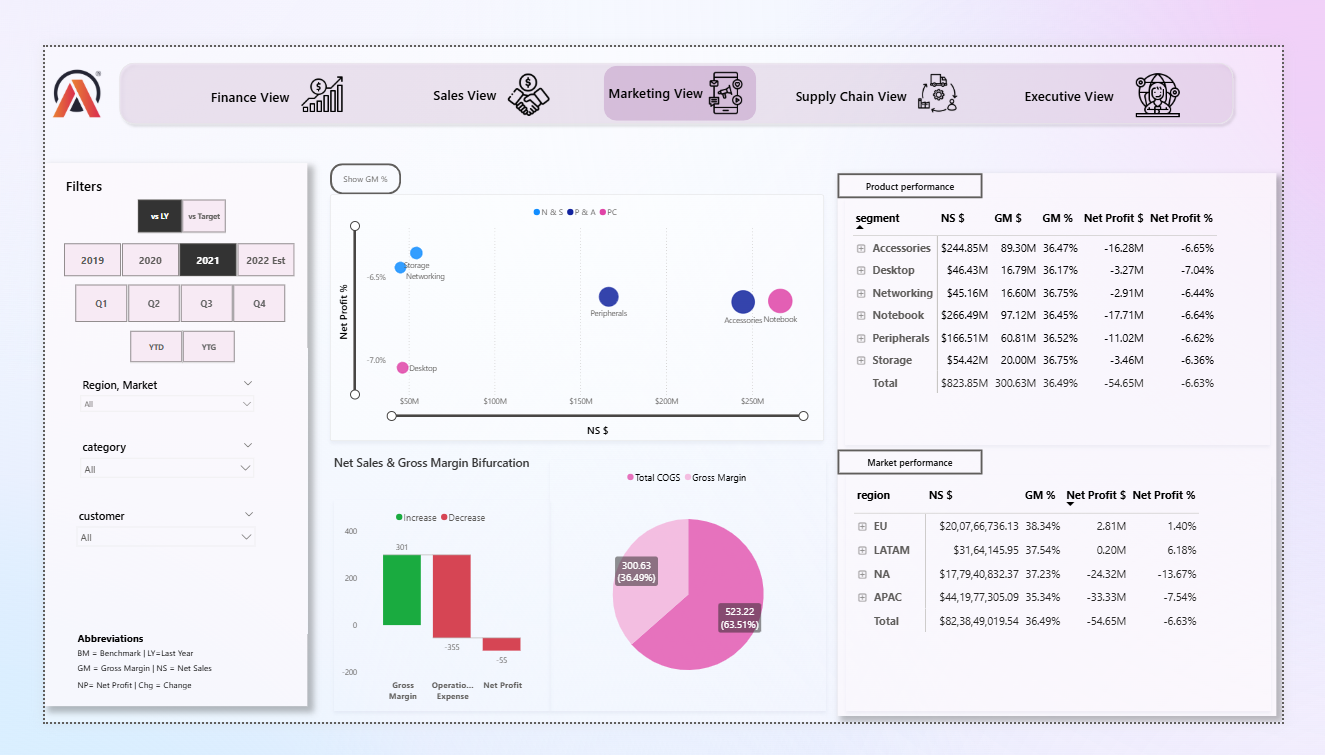

This screenshot's page, from the dashboard's own definition file:
{"tool":"powerbi","page":{"name":"Marketing View","canvas":[1980,1080],"ordinal":3},"visuals":[{"type":"shape","box":[894,30,244,88],"z":0},{"type":"scatterChart","fields":{"Category":["dim_product.segment","dim_product.category","dim_product.product"],"X":["Key Measures.NS $"],"Size":["Key Measures.NS $"],"Series":["dim_product.division"],"Y":["Key Measures.GM %"]},"box":[454,235.6,770,392.4],"z":0,"group":"g3"},{"type":"group","id":"g1","title":"Group 3","box":[52.5,956,265.7,74.3],"z":0,"group":"g2"},{"type":"shape","box":[52.8,956,264,24],"z":0,"group":"g1"},{"type":"actionButton","box":[481.3,186,113.8,49.9],"z":1000,"group":"g4"},{"type":"shape","box":[1268,202,702,868],"z":1000},{"type":"shape","box":[52.5,927.5,237.5,35],"z":1000,"group":"g2"},{"type":"shape","box":[52.5,982.3,264.3,22.9],"z":1000,"group":"g1"},{"type":"shape","box":[52.5,1007.4,265.7,22.9],"z":2000,"group":"g1"},{"type":"pieChart","fields":{"Y":["Key Measures.P & L values"],"Category":["P & L Rows.Description"]},"box":[808,660,442,402],"z":3000},{"type":"waterfallChart","fields":{"Category":["P & L Rows.Description"],"Y":["Key Measures.P & L values"]},"box":[462,724,346,338],"z":4000},{"type":"image","box":[12,30,80,88],"z":5000},{"type":"shape","box":[110,16,1800,116],"z":6000},{"type":"image","box":[740,36,68,80],"z":7000},{"type":"image","box":[1053.9,35.6,70,75],"z":8000},{"type":"image","box":[1396.1,33.3,65,80],"z":9000},{"type":"image","box":[1743.9,31.2,72.5,90],"z":10000},{"type":"textbox","box":[260.8,60.3,160,45],"z":11000},{"type":"textbox","box":[615.3,56.1,147.5,50],"z":12000},{"type":"textbox","box":[895.1,53.1,202.5,47.5],"z":13000},{"type":"textbox","box":[1561.4,58.7,182.5,40],"z":14000},{"type":"textbox","box":[1196.1,58.3,210,40],"z":15000},{"type":"image","box":[408.3,37.8,70,75],"z":16000},{"type":"shape","box":[0,186.2,420,868.8],"z":17000},{"type":"shape","box":[462,636,330,56],"z":18000},{"type":"slicer","fields":{"Values":["fiscal_year.fy_desc"]},"box":[10,312.5,407.5,56.2],"z":19000},{"type":"slicer","fields":{"Values":["dim_date.quarters"]},"box":[28.8,378.8,375,63.8],"z":20000},{"type":"slicer","fields":{"Values":["dim_date.ytd_ytg"]},"box":[115,451.2,206.2,53.8],"z":21000},{"type":"slicer","fields":{"Values":["dim_market.region","dim_customer.market"]},"box":[52.5,527.5,287.5,80],"z":22000},{"type":"slicer","fields":{"Values":["dim_product.category"]},"box":[52.5,627.5,287.5,65],"z":23000},{"type":"slicer","fields":{"Values":["Set BM.Benchmarks"]},"box":[128,242,180,56],"z":24000},{"type":"slicer","fields":{"Values":["dim_customer.customer"]},"box":[45,737.5,295,77.5],"z":25000},{"type":"group","id":"g2","title":"Group 5","box":[52.5,927.5,265.7,102.8],"z":26000},{"type":"group","id":"g3","title":"GM","box":[454,186,770,442],"z":27000},{"type":"group","id":"g4","title":"NP","box":[456,186,790,444],"z":28000},{"type":"pivotTable","fields":{"Rows":["dim_product.segment","dim_product.category","dim_product.product"],"Values":["Key Measures.NS $","Key Measures.GM $","Key Measures.GM %","Key Measures.Net Profit $","Key Measures.Net Profit %"]},"box":[1280,242,680,394],"z":29000},{"type":"pivotTable","fields":{"Values":["Key Measures.NS $","Key Measures.GM %","Key Measures.Net Profit $","Key Measures.Net Profit %"],"Rows":["dim_market.region","dim_market.market"]},"box":[1282,684,680,378],"z":30000},{"type":"actionButton","box":[1268,644,232,40],"z":31000},{"type":"actionButton","box":[1268,202,232,40],"z":32000},{"type":"textbox","box":[28,202,100,50],"z":33000}]}

Visuals, with their boxes on the page's 1980x1080 design canvas (x1, y1, x2, y2). These are canvas units, not pixel positions in the 1325x755 screenshot, which may show the page scaled, cropped or inside an application window:
shape: left=894, top=30, right=1138, bottom=118
scatterChart - dim_product.segment x dim_product.category: left=454, top=236, right=1224, bottom=628
"Group 3" group: left=52, top=956, right=318, bottom=1030
shape: left=53, top=956, right=317, bottom=980
actionButton: left=481, top=186, right=595, bottom=236
shape: left=1268, top=202, right=1970, bottom=1070
shape: left=52, top=928, right=290, bottom=962
shape: left=52, top=982, right=317, bottom=1005
shape: left=52, top=1007, right=318, bottom=1030
pieChart - Key Measures.P & L values x P & L Rows.Description: left=808, top=660, right=1250, bottom=1062
waterfallChart - P & L Rows.Description x Key Measures.P & L values: left=462, top=724, right=808, bottom=1062
image: left=12, top=30, right=92, bottom=118
shape: left=110, top=16, right=1910, bottom=132
image: left=740, top=36, right=808, bottom=116
image: left=1054, top=36, right=1124, bottom=111
image: left=1396, top=33, right=1461, bottom=113
image: left=1744, top=31, right=1816, bottom=121
textbox: left=261, top=60, right=421, bottom=105
textbox: left=615, top=56, right=763, bottom=106
textbox: left=895, top=53, right=1098, bottom=101
textbox: left=1561, top=59, right=1744, bottom=99
textbox: left=1196, top=58, right=1406, bottom=98
image: left=408, top=38, right=478, bottom=113
shape: left=0, top=186, right=420, bottom=1055
shape: left=462, top=636, right=792, bottom=692
slicer - fiscal_year.fy_desc: left=10, top=312, right=418, bottom=369
slicer - dim_date.quarters: left=29, top=379, right=404, bottom=443
slicer - dim_date.ytd_ytg: left=115, top=451, right=321, bottom=505
slicer - dim_market.region x dim_customer.market: left=52, top=528, right=340, bottom=608
slicer - dim_product.category: left=52, top=628, right=340, bottom=692
slicer - Set BM.Benchmarks: left=128, top=242, right=308, bottom=298
slicer - dim_customer.customer: left=45, top=738, right=340, bottom=815
"Group 5" group: left=52, top=928, right=318, bottom=1030
"GM" group: left=454, top=186, right=1224, bottom=628
"NP" group: left=456, top=186, right=1246, bottom=630
pivotTable - dim_product.segment x dim_product.category: left=1280, top=242, right=1960, bottom=636
pivotTable - Key Measures.NS $ x Key Measures.GM %: left=1282, top=684, right=1962, bottom=1062
actionButton: left=1268, top=644, right=1500, bottom=684
actionButton: left=1268, top=202, right=1500, bottom=242
textbox: left=28, top=202, right=128, bottom=252
